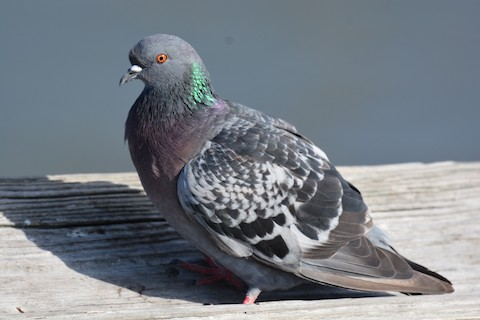pigeon: (112, 33, 459, 309)
